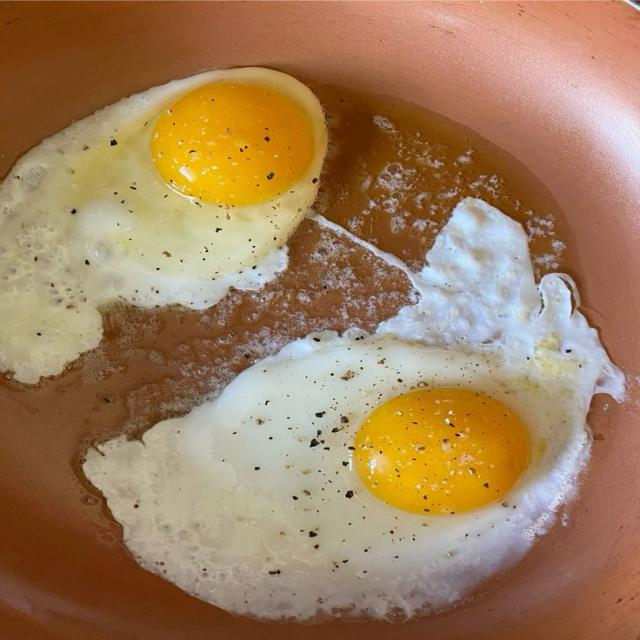fryed egg: (84, 199, 622, 619), (0, 68, 326, 382)
